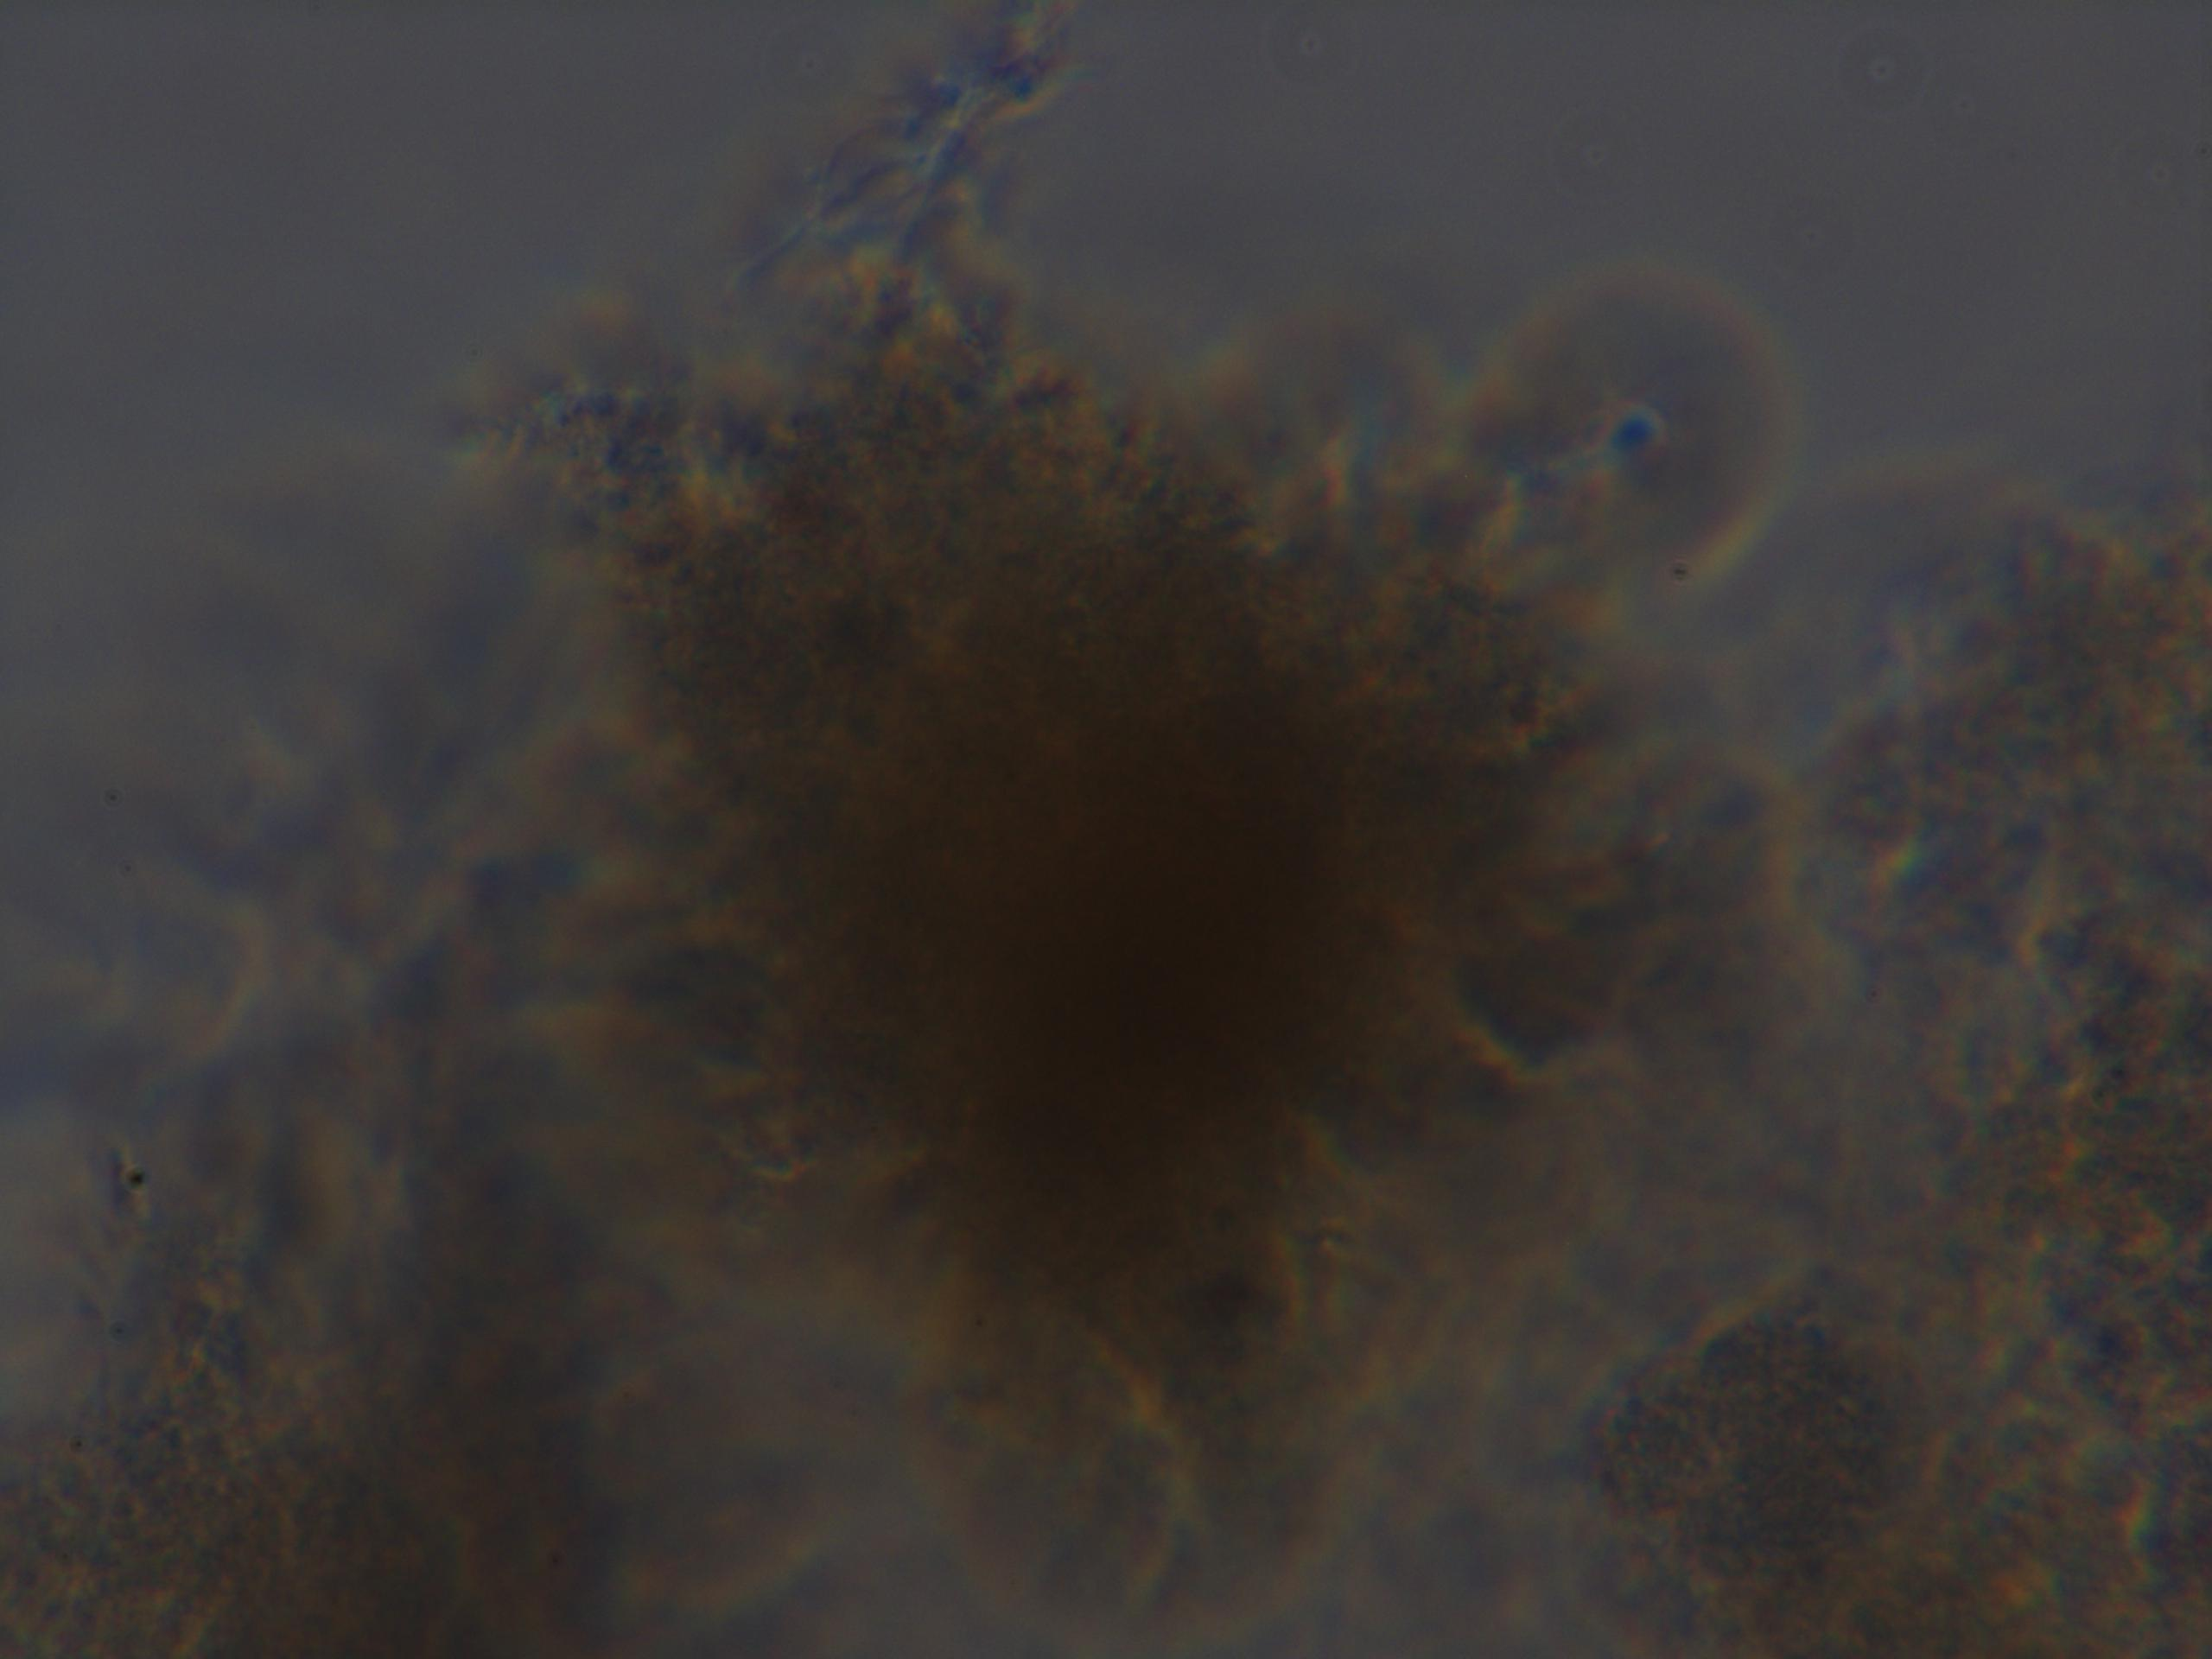spherical_floc: (603, 364, 1658, 1518)
